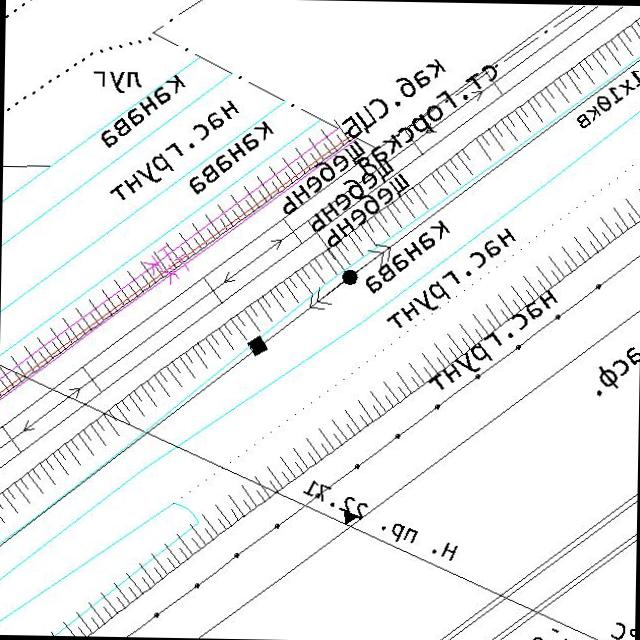mark: (343, 508, 358, 526)
